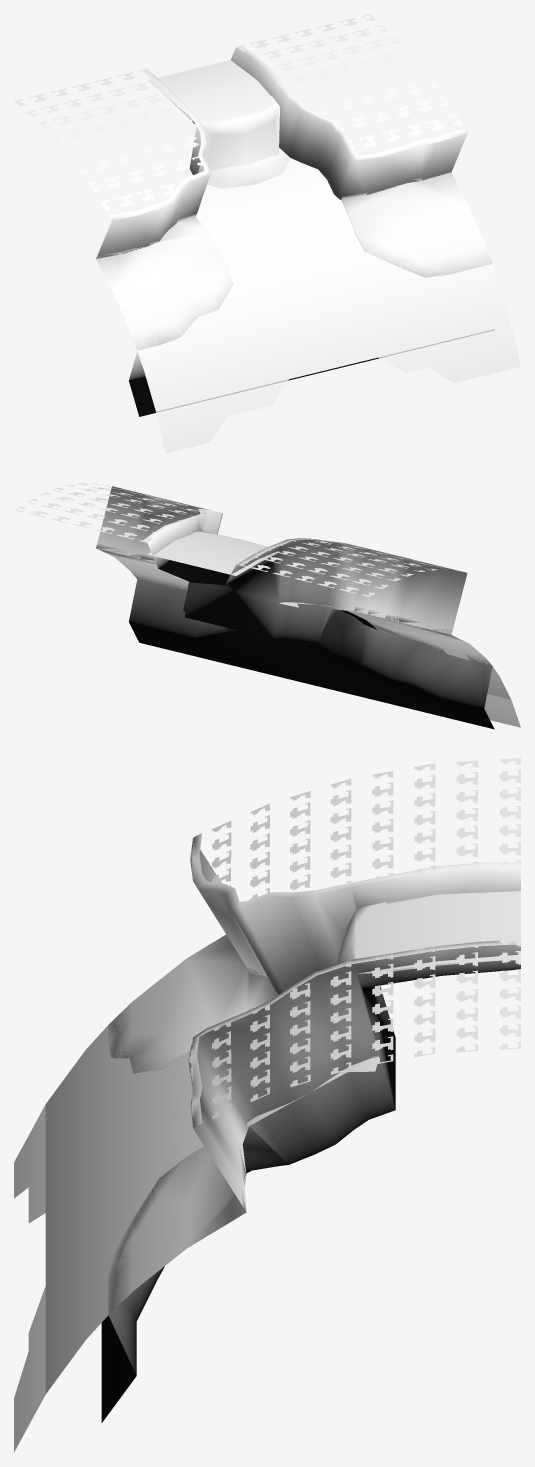
The model's file is grd_Ms_R_2.dae.
3 renders of one model, top to bottom at view 1: azimuth 30°, elevation 25°; view 2: azimuth 150°, elevation 25°; view 3: azimuth 270°, elevation 25°, orthographic. The views are drawn at different scales.
Visible parts, largest first — view 1: ocean_6_0, wave_9_0, beach_3_0, fall_ura_1_0, grass_5_0, beach_4_0, fall_0_0, river1_7_0, river_edge_8_0, kemuri_mae_2_0; view 2: fall_ura_1_0, beach_4_0, grass_5_0, beach_3_0, river1_7_0, wave_9_0, ocean_6_0, fall_0_0, river_edge_8_0; view 3: fall_ura_1_0, ocean_6_0, wave_9_0, beach_3_0, grass_5_0, beach_4_0, river1_7_0, fall_0_0, river_edge_8_0.
Part boxes in pixels (x1,y1,x2,y2): ocean_6_0: (137, 148, 511, 411); wave_9_0: (130, 247, 520, 453); beach_3_0: (96, 172, 485, 330); fall_ura_1_0: (96, 47, 467, 258); grass_5_0: (14, 14, 463, 217); beach_4_0: (129, 244, 493, 416); fall_0_0: (171, 96, 279, 180); river1_7_0: (147, 60, 269, 114); river_edge_8_0: (148, 61, 364, 266); kemuri_mae_2_0: (207, 153, 290, 188); fall_ura_1_0: (97, 486, 467, 642); beach_4_0: (129, 570, 494, 729); grass_5_0: (14, 482, 459, 596); beach_3_0: (96, 542, 484, 657); river1_7_0: (148, 534, 273, 575); wave_9_0: (182, 585, 520, 727); ocean_6_0: (176, 582, 510, 699); fall_0_0: (174, 531, 298, 607); river_edge_8_0: (147, 533, 386, 632); fall_ura_1_0: (188, 833, 520, 1211); ocean_6_0: (45, 1020, 376, 1393); wave_9_0: (14, 1003, 185, 1452); beach_3_0: (133, 934, 277, 1290); grass_5_0: (188, 758, 520, 1119); beach_4_0: (101, 1001, 288, 1422); river1_7_0: (380, 891, 520, 970); fall_0_0: (336, 902, 386, 1072); river_edge_8_0: (159, 891, 520, 1177).
Bounding box in the file's own units: 512 × 332 × 378.
Materials: 10 (1 with a texture image).
